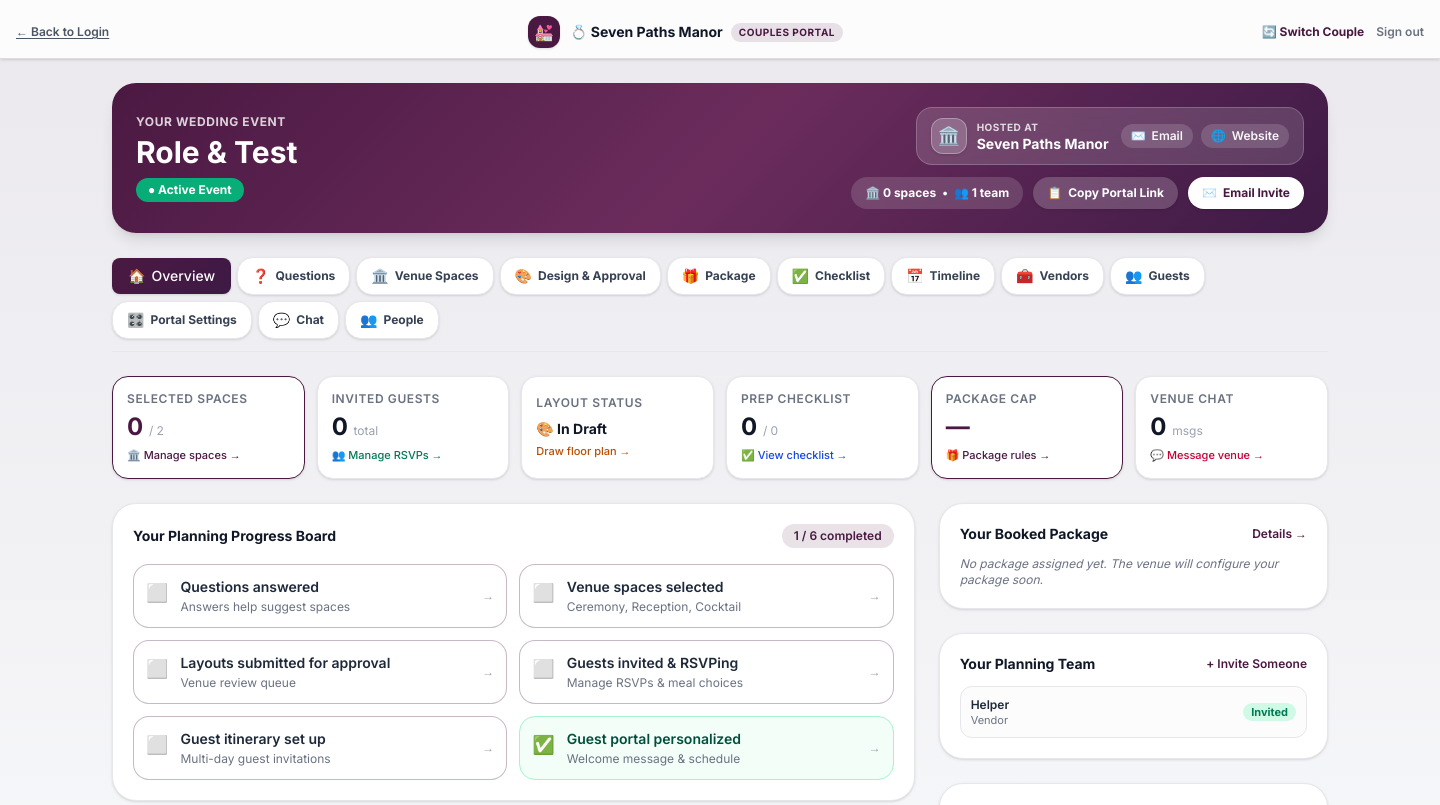
Test case: CouplesPortal › restricts a vendor to view-only (no space/guest/portal edits)
The width and height of the screenshot is (1440, 805).
Click the tab "🏛️ Venue Spaces": (425, 276) top-left (356, 257), bottom-right (494, 295)
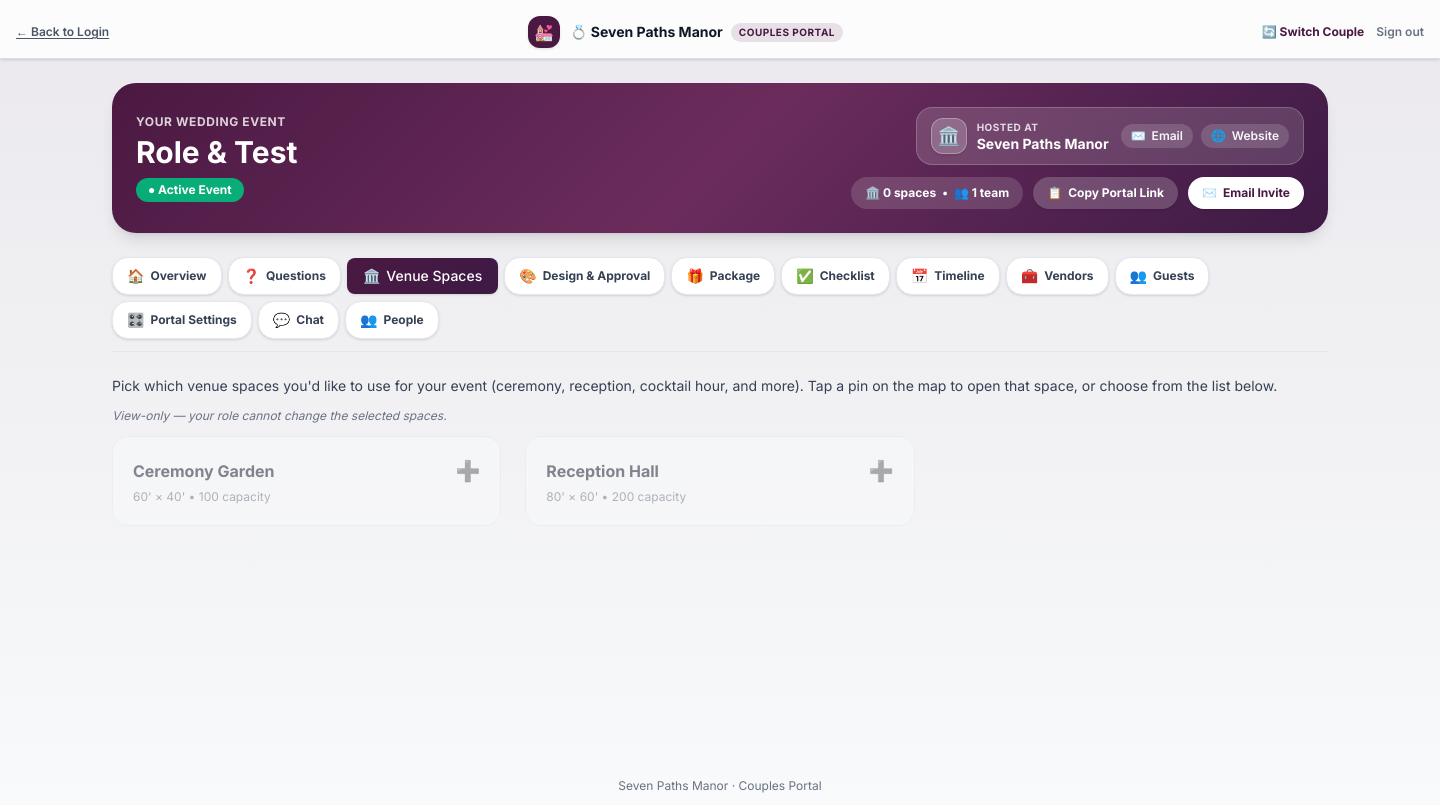
Expected: the text "View-only — your role cannot change the selected spaces." is shown, top-left (112, 408), bottom-right (447, 423)
Click the tab "👥 Guests": (1162, 276) top-left (1115, 257), bottom-right (1209, 295)
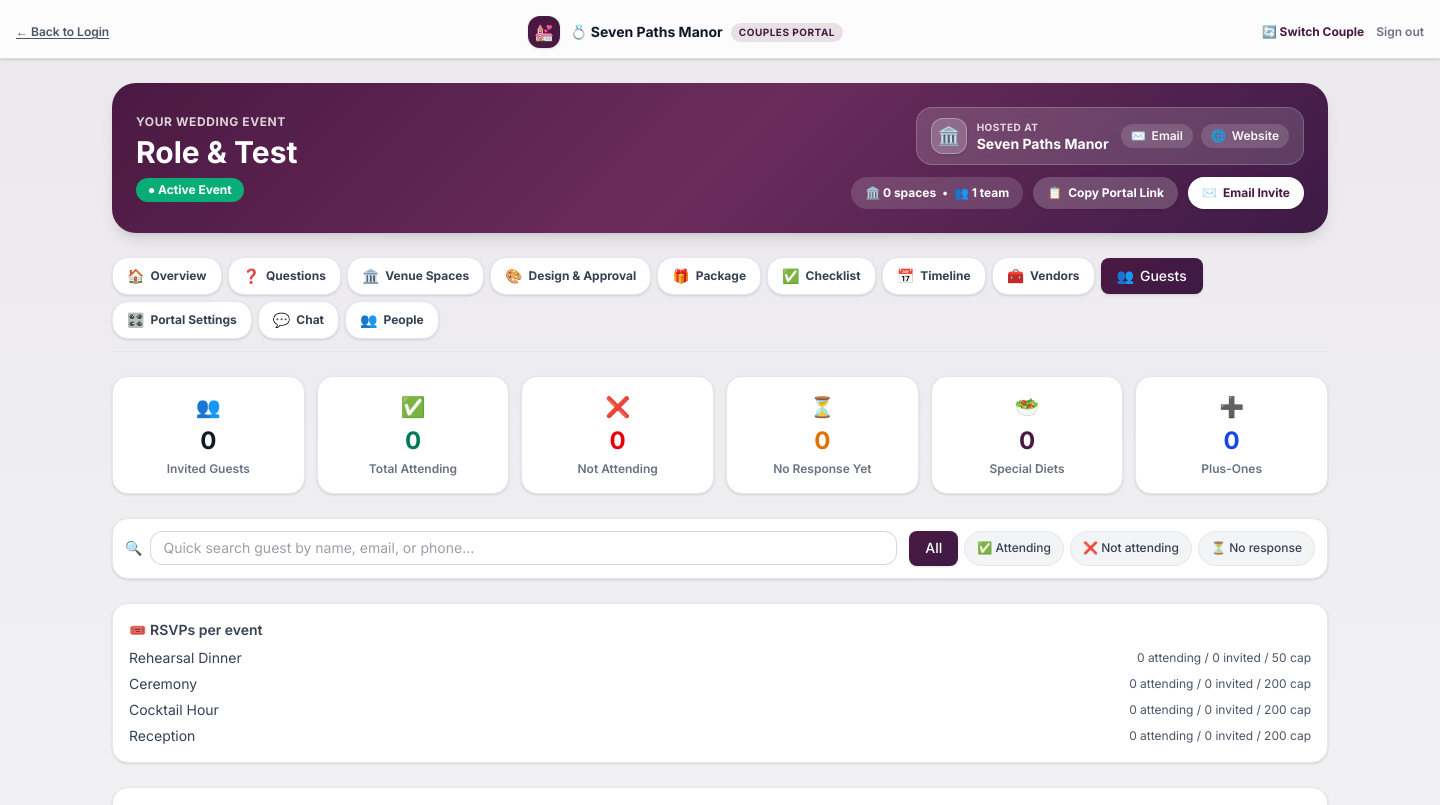
Click the tab "🎛️ Portal Settings": (182, 320) top-left (112, 301), bottom-right (252, 339)
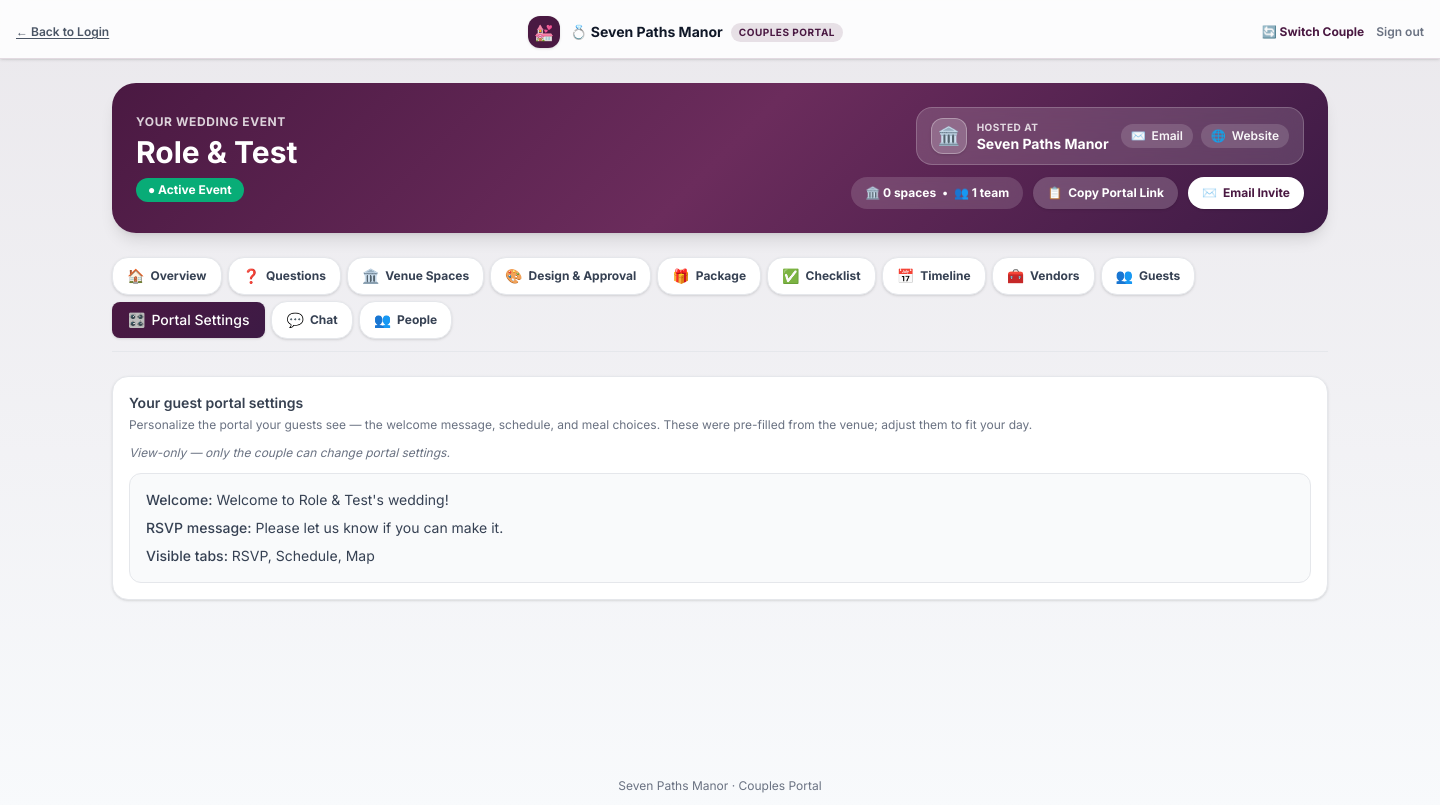
Expected: the text "View-only — only the couple can change portal settings." is shown, top-left (129, 445), bottom-right (450, 460)
